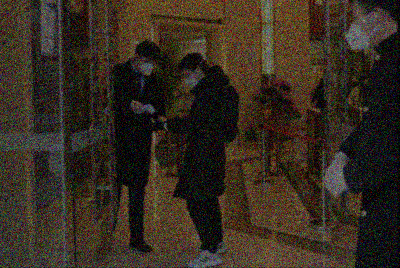with_mask: (345, 7, 374, 53), (138, 57, 156, 77), (183, 72, 198, 87), (353, 75, 358, 83)
